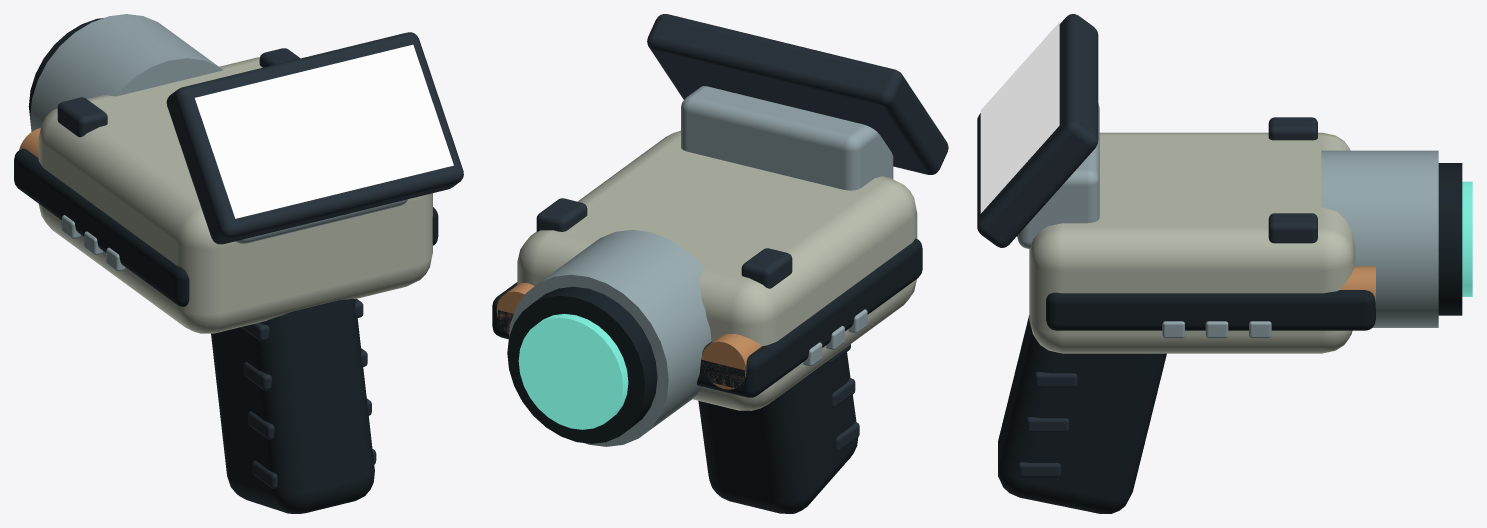
File: instrument_0.glb
3 renders of one model, left to right at view 1: azimuth 30°, elevation 25°; view 2: azimuth 150°, elevation 25°; view 3: azimuth 270°, elevation 25°, orthographic. The views are drawn at different scales.
Bounding box in the file's own units: 0.146 × 0.2308 × 0.2403.
